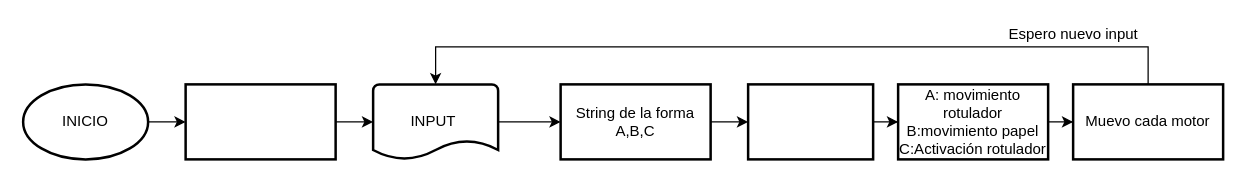
The diagram is 1245 pixels wide and 181 high, and some of its shapes have lost their labels. The shapes that lost their labels are listed below. From the top down, each one's centre as x and y in pixels, then its label:
At pixel 260 121: "Homing: mueve la rotu hasta que activa el botón, alcanza la posición origen".
At pixel 810 121: "Separo los valores".
